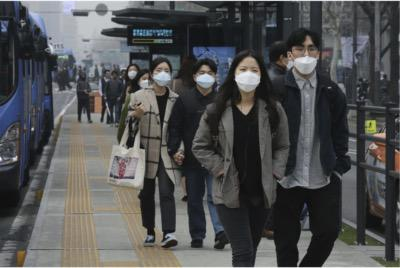mask_weared_incorrect: (290, 43, 317, 75)
with_mask: (233, 65, 261, 94), (152, 67, 172, 88), (196, 70, 215, 89), (138, 76, 151, 90), (127, 68, 138, 81), (80, 75, 86, 81)
without_mask: (112, 73, 117, 80), (105, 72, 110, 78)
